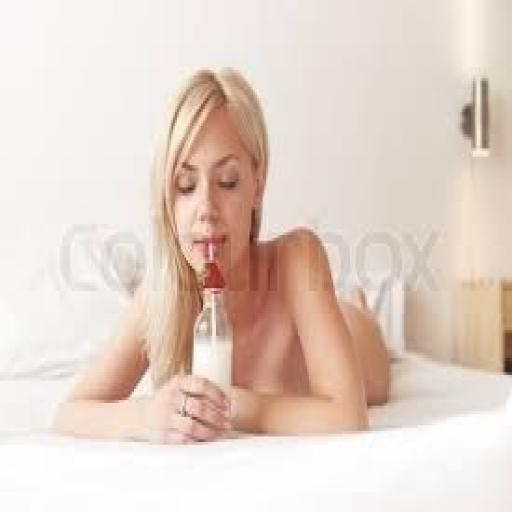drinking: (190, 240, 233, 408)
